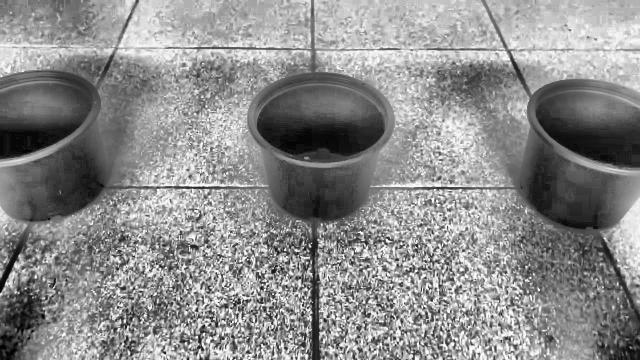pot: (248, 73, 394, 222), (518, 79, 640, 231), (0, 70, 108, 224)
